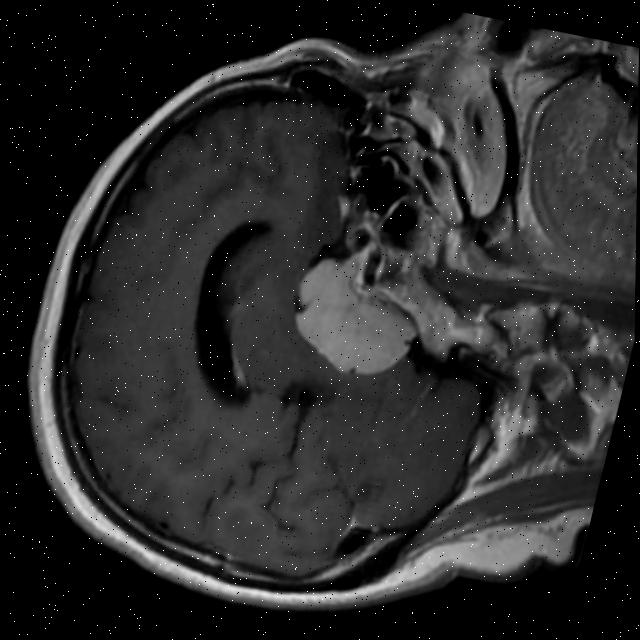Meningioma: (278, 245, 432, 389)
